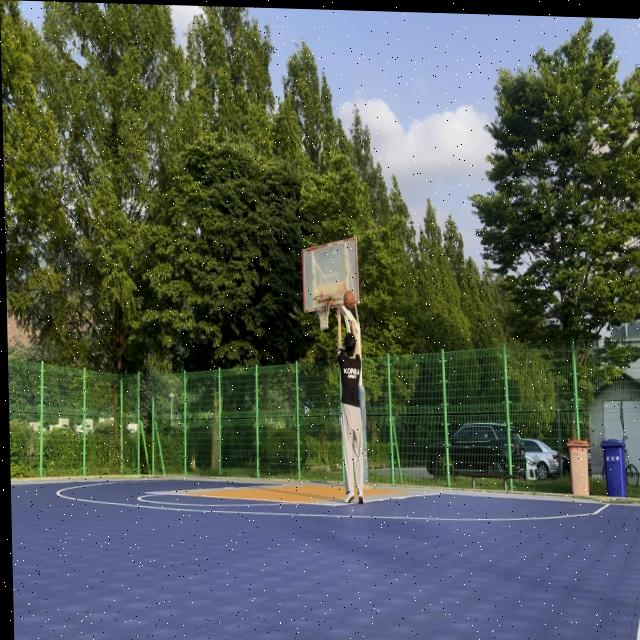basketball: (343, 289, 356, 312)
hoop: (314, 294, 333, 331)
